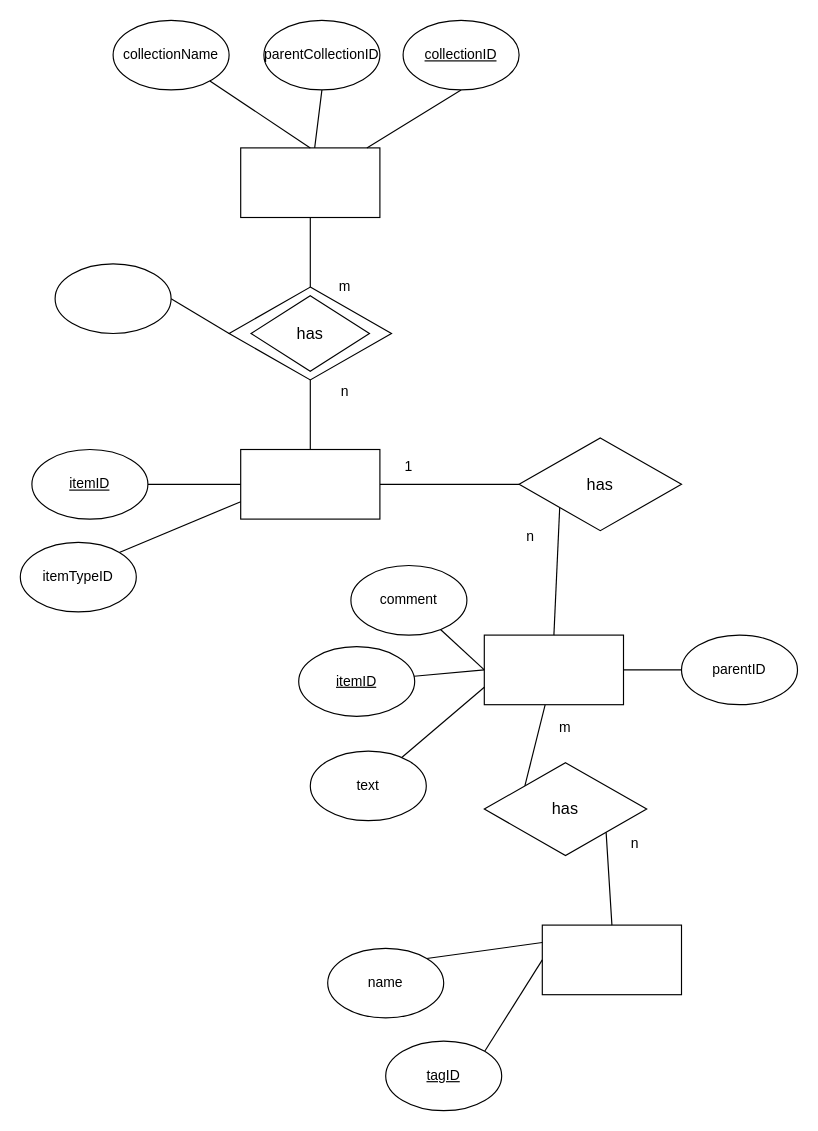
The diagram is 818 pixels wide and 1131 high, and some of its shapes have lost their labels. The shapes that lost their labels are listed below. From the top down, each one's centre as x and y in pixels, then its label:
At (x=310, y=182): "Collection".
At (x=112, y=298): "orderIndex".
At (x=310, y=483): "Item".
At (x=553, y=669): "Annotation".
At (x=611, y=959): "Tag".
